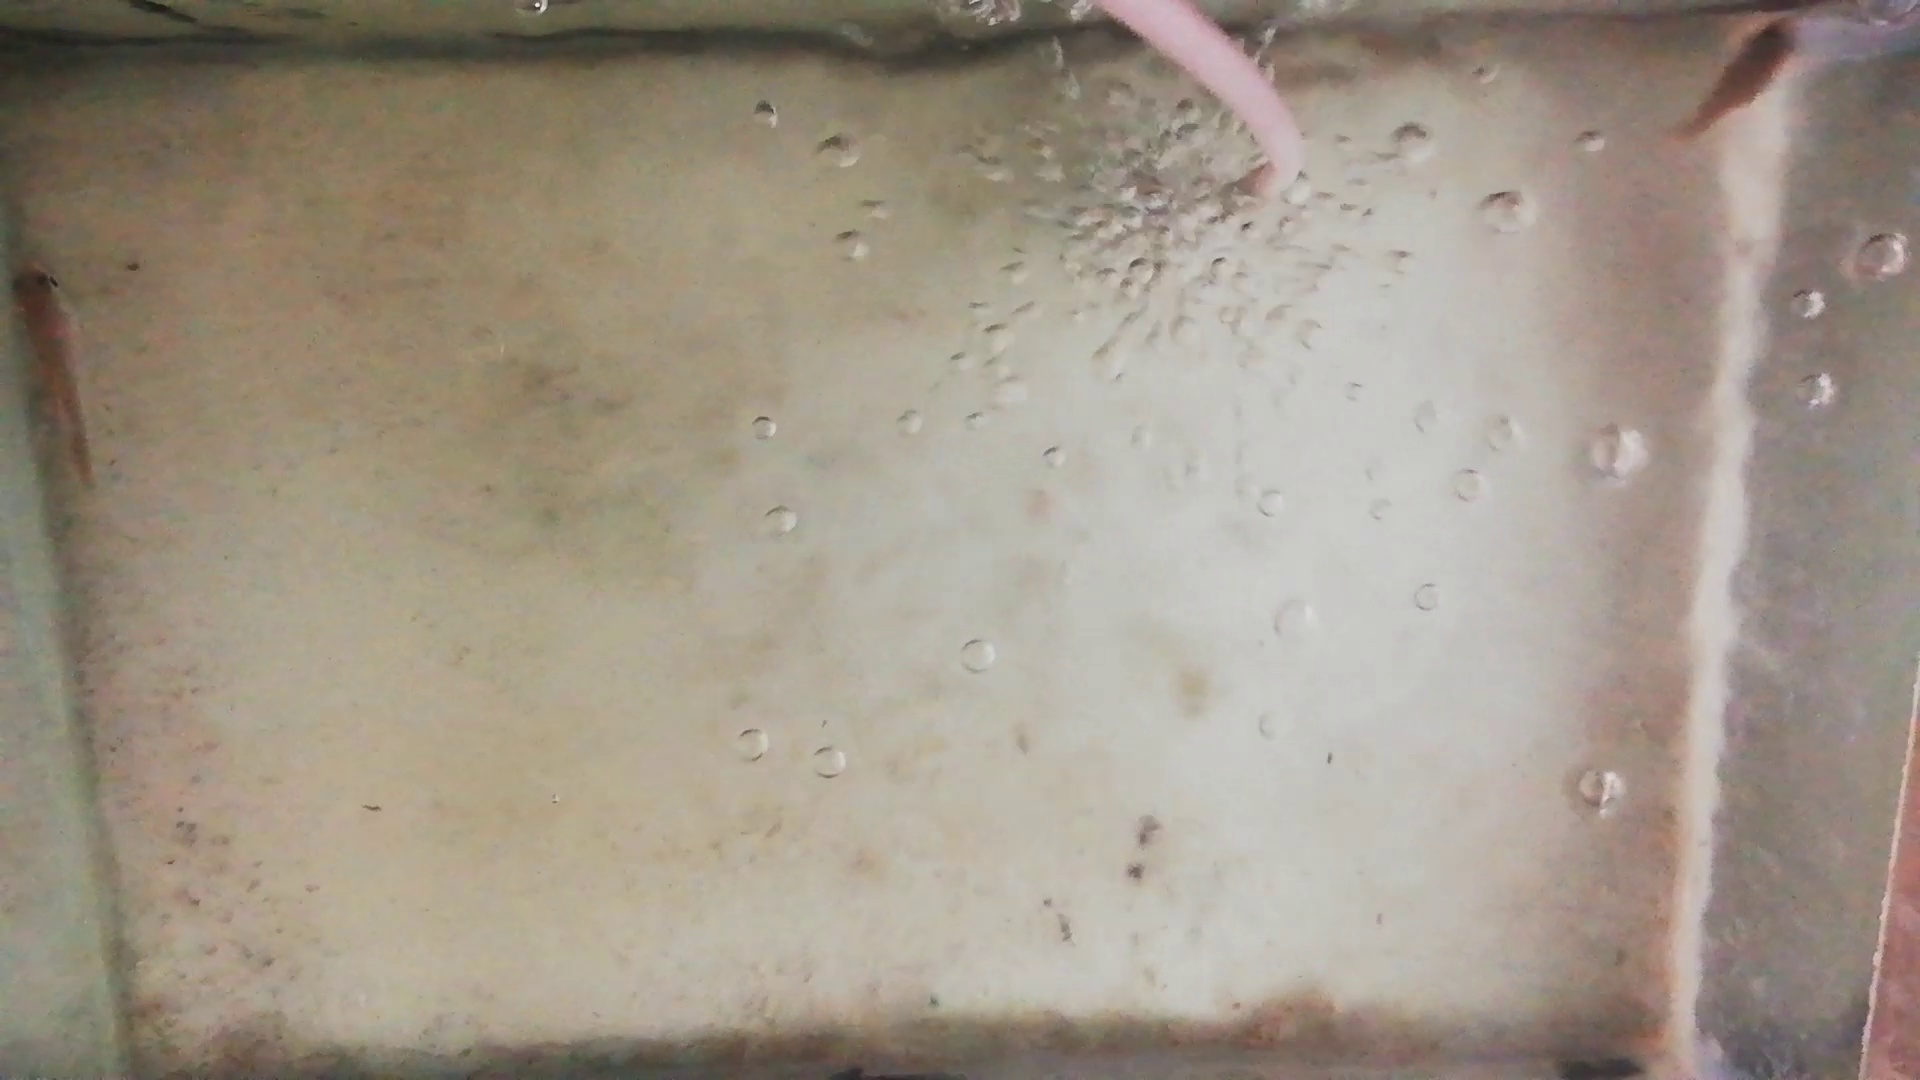fish: (11, 260, 94, 485), (1687, 18, 1801, 142)
